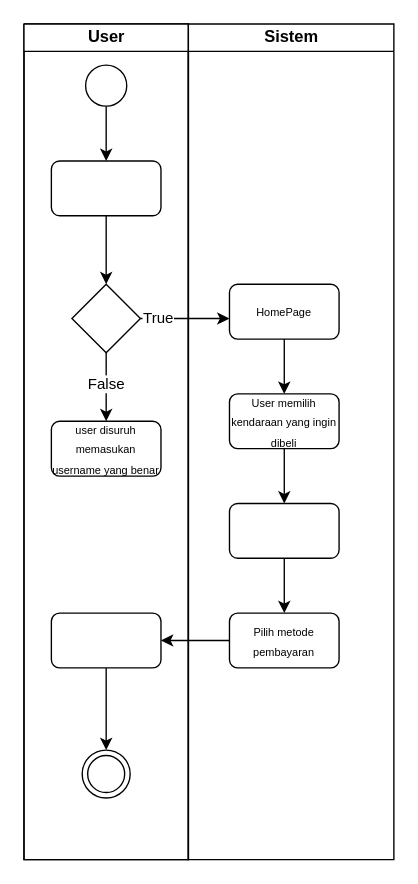
This 418x884 diagram has some shape labels left out. The shapes that lost their labels are listed below. From the top down, each one's box as (x1, y1, x2, y2) in pixels, then its label:
(50, 160, 161, 216): Login
(228, 502, 339, 558): User memilih kategori kendaraan yang ingin dibeli
(50, 612, 161, 668): Pembayaran Selesai
